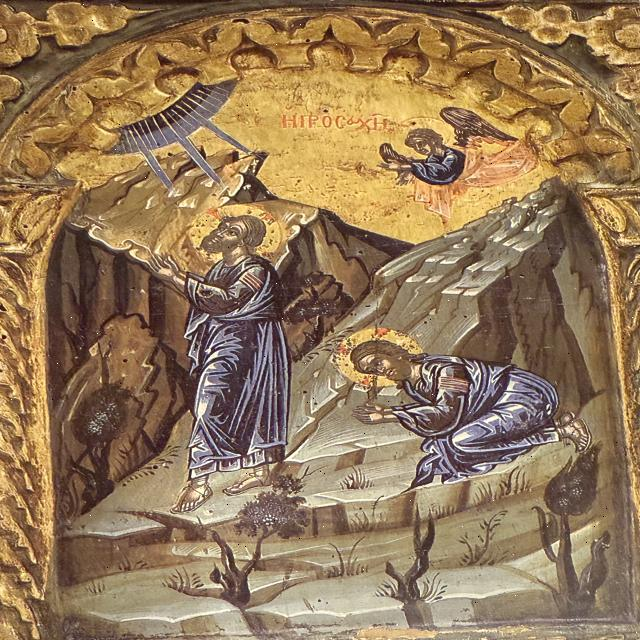angel: (326, 108, 536, 205)
aura: (330, 332, 428, 391), (191, 207, 284, 265), (386, 115, 458, 157)
saint: (146, 201, 318, 509), (324, 323, 594, 477)
wing: (435, 106, 530, 152), (370, 147, 421, 173)
